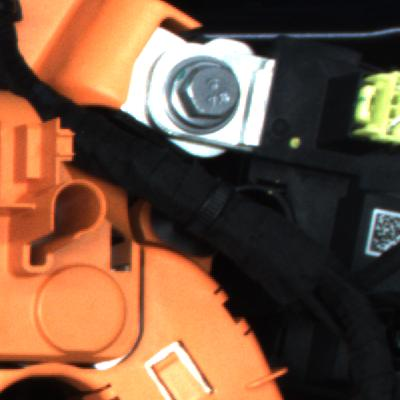nut_b: (147, 45, 256, 148)
